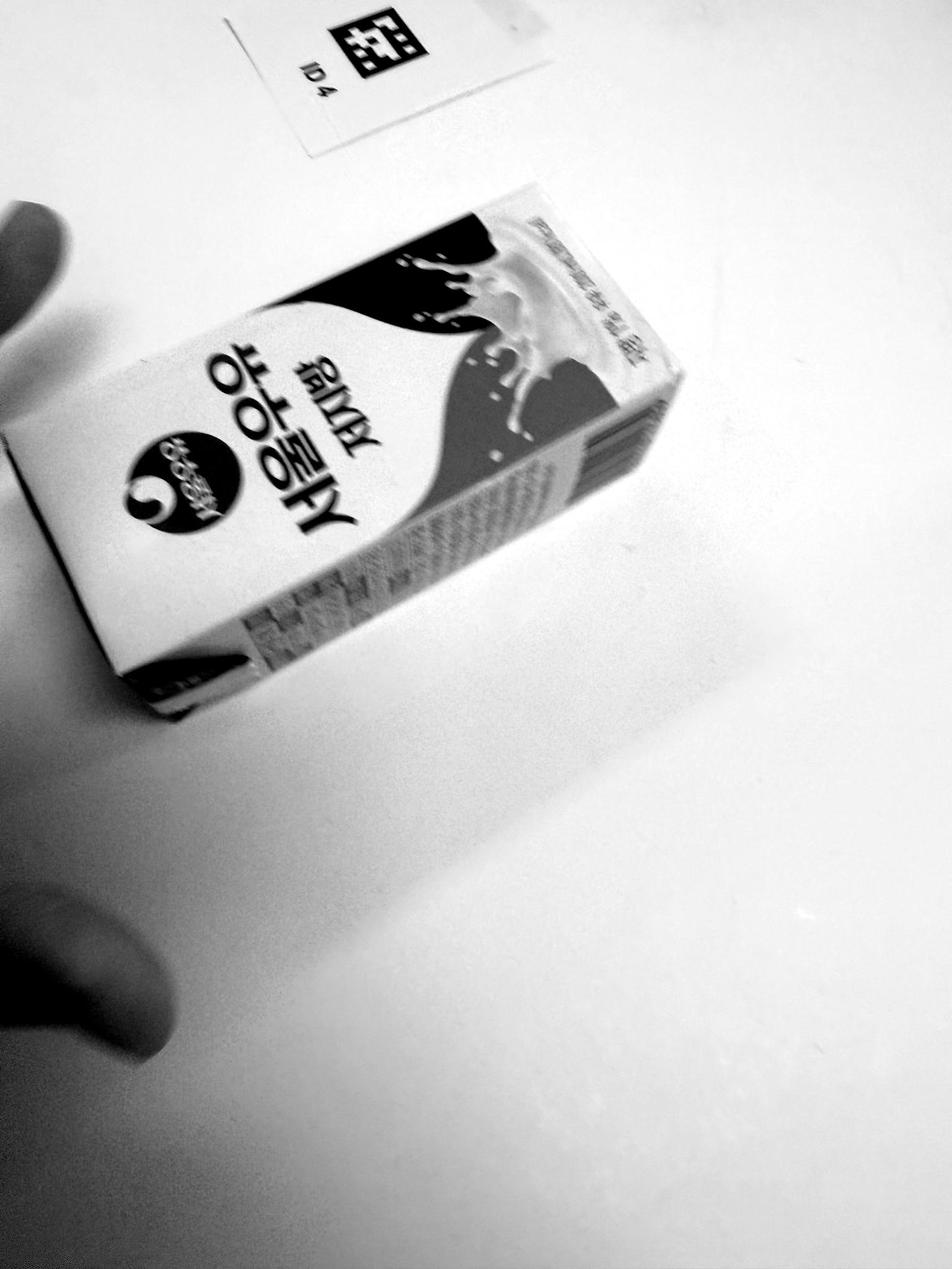milk_blue: (4, 187, 682, 719)
